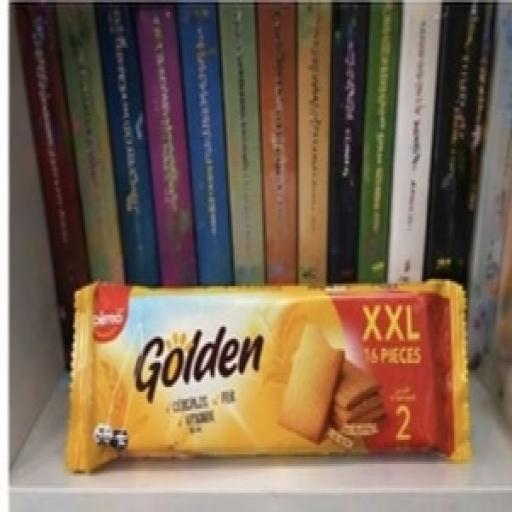golden: (30, 207, 507, 512)
